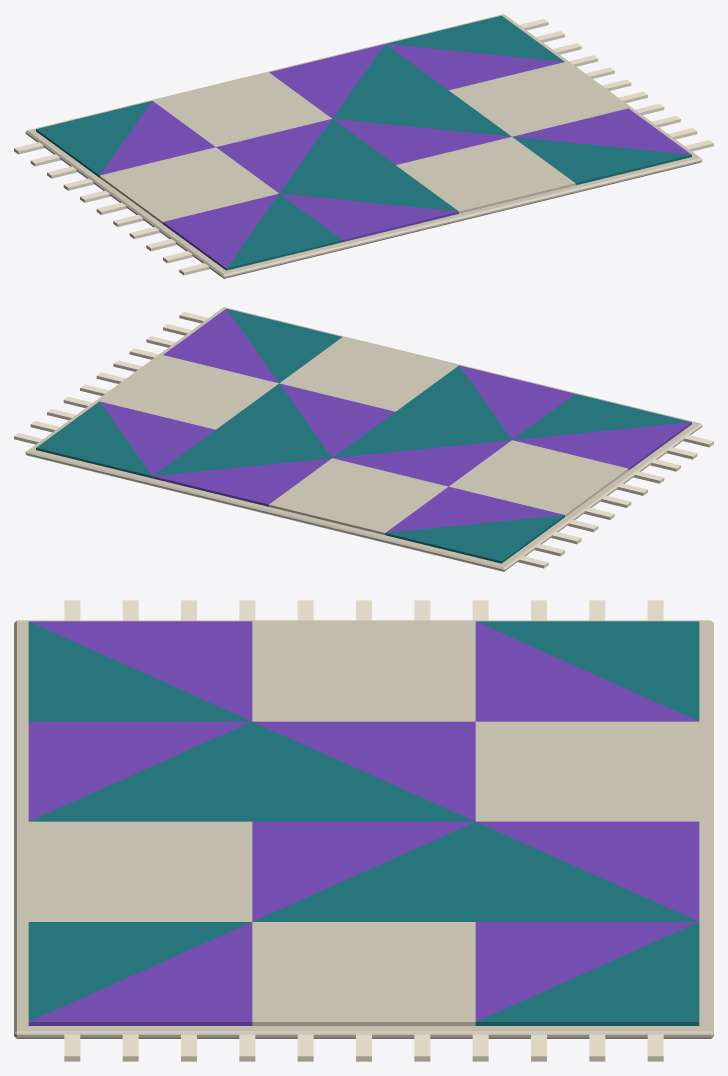
The model's file is rug_patchwork.glb.
The picture shows the model from 3 angles, top to bottom: view 1: azimuth 30°, elevation 25°; view 2: azimuth 150°, elevation 25°; view 3: azimuth 270°, elevation 25°; orthographic projection. The views are drawn at different scales.
Visible parts, largest first — view 1: rug_patchwork; view 2: rug_patchwork; view 3: rug_patchwork.
Boxes of the visible parts, bbox=[...] form: rug_patchwork: bbox=[14, 14, 713, 278]; rug_patchwork: bbox=[14, 307, 713, 571]; rug_patchwork: bbox=[14, 600, 713, 1061].
Size of the model in its own units: 1.48 by 0.018 by 0.96.
